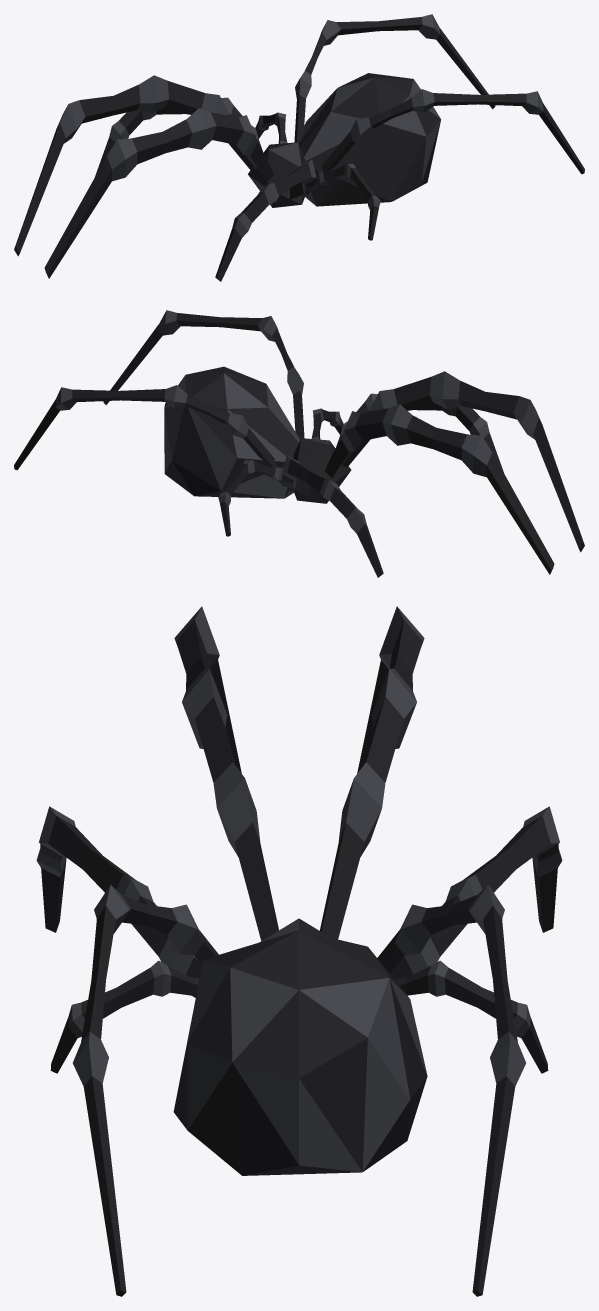
Rendered from WF_LP_HT_Animal_Spider.fbx.
3 renders of one model, top to bottom at view 1: azimuth 30°, elevation 25°; view 2: azimuth 150°, elevation 25°; view 3: azimuth 270°, elevation 25°, orthographic. The views are drawn at different scales.
Visible parts, largest first — view 1: WF_LP_HT_Animal_Spider; view 2: WF_LP_HT_Animal_Spider; view 3: WF_LP_HT_Animal_Spider.
Boxes of the visible parts, bbox=[...] form: WF_LP_HT_Animal_Spider: bbox=[14, 14, 584, 281]; WF_LP_HT_Animal_Spider: bbox=[14, 310, 584, 577]; WF_LP_HT_Animal_Spider: bbox=[36, 606, 562, 1296].
Size of the model in its own units: 0.3393 by 0.0898 by 0.1514.
